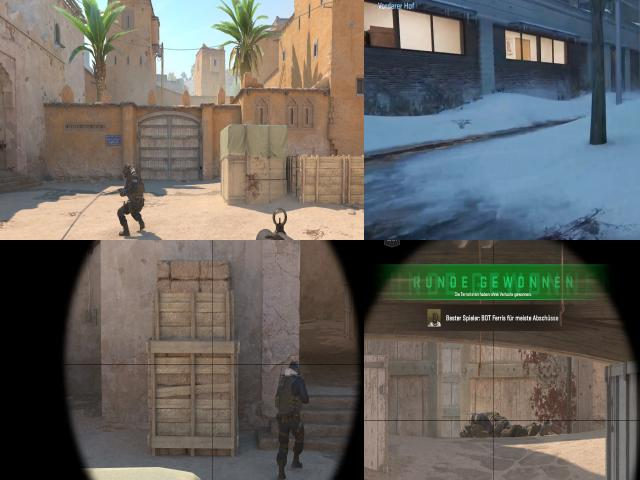CT: (278, 362, 308, 463), (120, 162, 144, 236)
CT-Head: (124, 164, 132, 178), (288, 364, 299, 374)
Dead: (461, 412, 537, 439)
